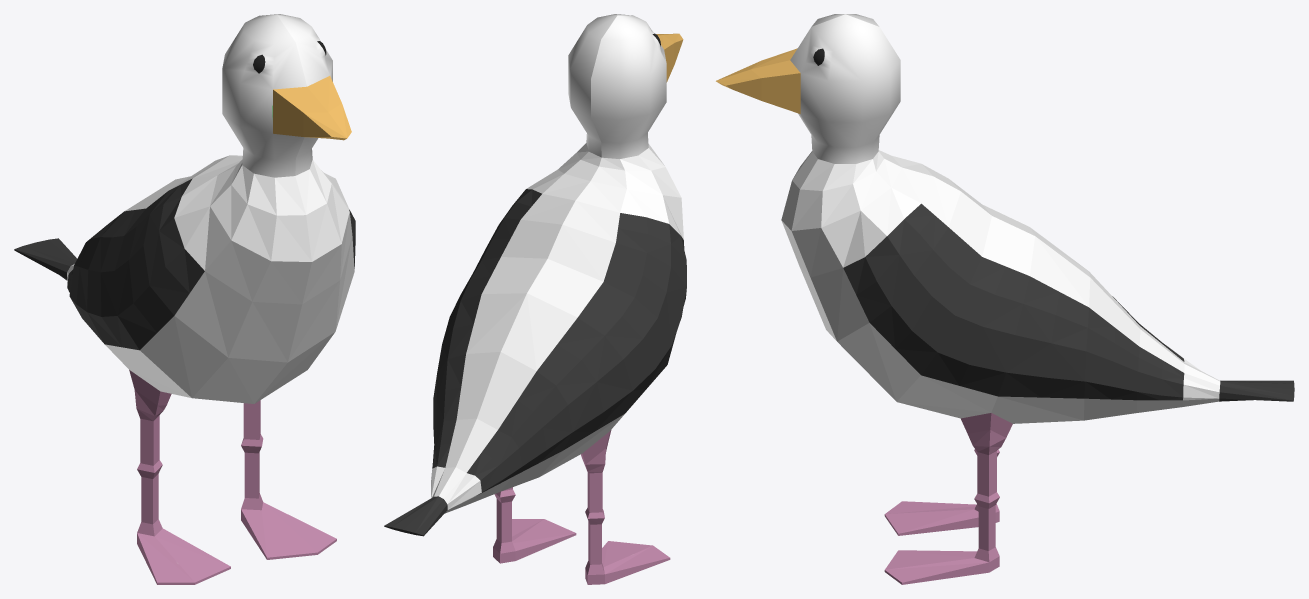
File: seagull.fbx
3 renders of one model, left to right at view 1: azimuth 30°, elevation 25°; view 2: azimuth 150°, elevation 25°; view 3: azimuth 270°, elevation 25°, orthographic. The views are drawn at different scales.
Visible parts, largest first — view 1: Sphere001; view 2: Sphere001; view 3: Sphere001.
Boxes of the visible parts, x1,y1,x2,y2 form: Sphere001: (14,14,355,584); Sphere001: (384,14,686,584); Sphere001: (716,14,1294,584).
Size of the model in its own units: 23.88 by 58.88 by 58.32.
Materials: 1 (1 with a texture image).
